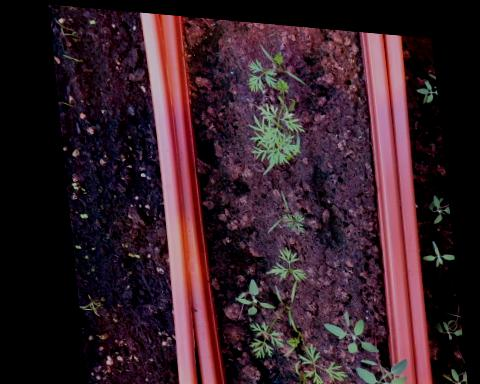weed: (314, 300, 373, 352)
